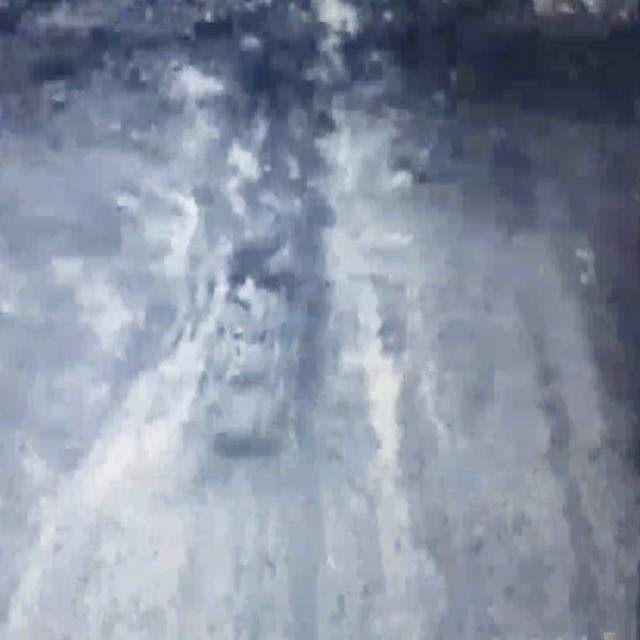vehicle: (195, 244, 312, 456)
